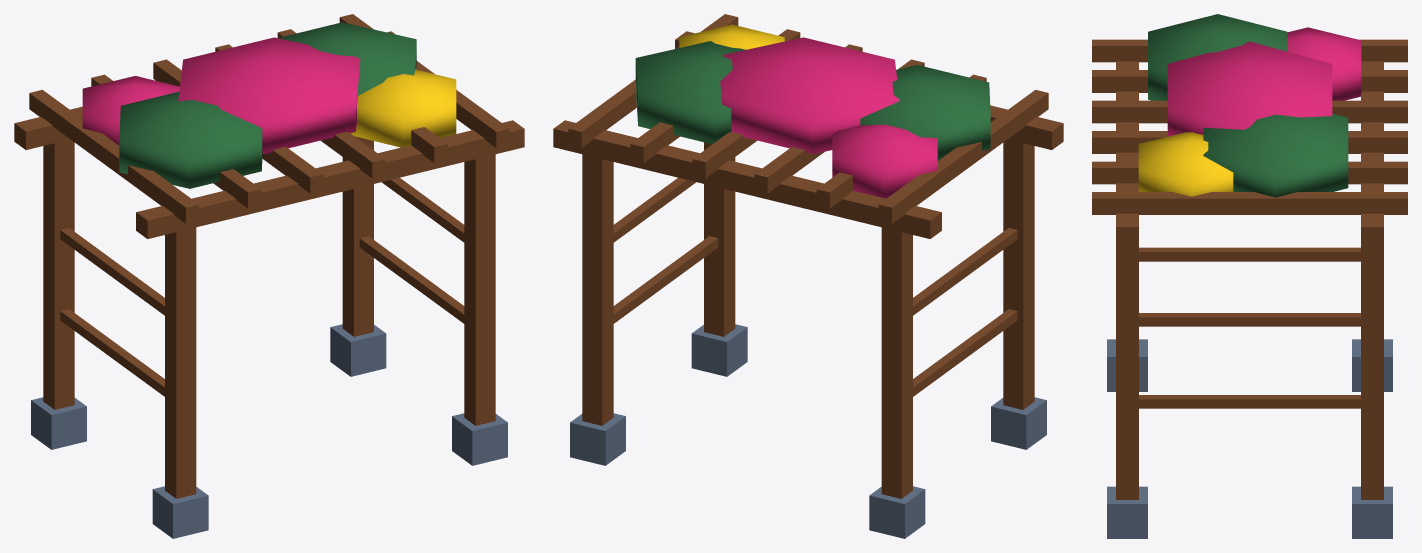
Rendered from prop_07_dalat_flower_pergola_arch.glb.
The picture shows the model from 3 angles, left to right: view 1: azimuth 30°, elevation 25°; view 2: azimuth 150°, elevation 25°; view 3: azimuth 270°, elevation 25°; orthographic projection.
Visible parts, largest first — view 1: vine_cluster_2, vine_cluster_0, post_-1.35_0.95, post_1.35_0.95, main_beam_0.95, post_-1.35_-0.95, vine_cluster_4, post_1.35_-0.95, vine_cluster_1, rafter_0, vine_cluster_3, foot_-1.35_0.95 (+13 smaller); view 2: vine_cluster_2, post_-1.35_-0.95, post_1.35_-0.95, main_beam_-0.95, post_-1.35_0.95, vine_cluster_1, vine_cluster_0, vine_cluster_3, post_1.35_0.95, rafter_0, foot_-1.35_-0.95, foot_1.35_0.95 (+13 smaller); view 3: vine_cluster_2, vine_cluster_1, rafter_5, post_1.35_-0.95, post_1.35_0.95, vine_cluster_0, vine_cluster_4, rafter_2, trellis_l_1.1, vine_cluster_3, trellis_r_1.1, trellis_r_1.8 (+10 smaller).
Part boxes in pixels (bbox=[...]): vine_cluster_2: bbox=[178, 37, 360, 153]; vine_cluster_0: bbox=[119, 91, 262, 188]; post_-1.35_0.95: bbox=[165, 227, 196, 498]; post_1.35_0.95: bbox=[464, 154, 495, 425]; main_beam_0.95: bbox=[136, 120, 524, 238]; post_-1.35_-0.95: bbox=[43, 139, 74, 409]; vine_cluster_4: bbox=[351, 69, 456, 147]; post_1.35_-0.95: bbox=[342, 136, 373, 336]; vine_cluster_1: bbox=[278, 22, 416, 95]; rafter_0: bbox=[29, 89, 199, 223]; vine_cluster_3: bbox=[82, 76, 179, 145]; foot_-1.35_0.95: bbox=[152, 486, 208, 538]; vine_cluster_2: bbox=[720, 37, 899, 153]; post_-1.35_-0.95: bbox=[881, 227, 912, 498]; post_1.35_-0.95: bbox=[582, 154, 613, 425]; main_beam_-0.95: bbox=[553, 120, 941, 238]; post_-1.35_0.95: bbox=[1003, 139, 1034, 409]; vine_cluster_1: bbox=[635, 41, 745, 144]; vine_cluster_0: bbox=[860, 65, 990, 160]; vine_cluster_3: bbox=[832, 124, 937, 198]; post_1.35_0.95: bbox=[704, 142, 735, 336]; rafter_0: bbox=[878, 89, 1048, 223]; foot_-1.35_-0.95: bbox=[869, 486, 925, 538]; foot_1.35_0.95: bbox=[691, 324, 747, 376]; vine_cluster_2: bbox=[1167, 41, 1332, 136]; vine_cluster_1: bbox=[1203, 113, 1348, 197]; rafter_5: bbox=[1092, 192, 1407, 214]; post_1.35_-0.95: bbox=[1361, 245, 1383, 499]; post_1.35_0.95: bbox=[1116, 245, 1138, 499]; vine_cluster_0: bbox=[1148, 14, 1287, 100]; vine_cluster_4: bbox=[1138, 132, 1233, 196]; rafter_2: bbox=[1092, 100, 1407, 123]; trellis_l_1.1: bbox=[1139, 247, 1360, 261]; vine_cluster_3: bbox=[1287, 27, 1361, 100]; trellis_r_1.1: bbox=[1139, 395, 1360, 408]; trellis_r_1.8: bbox=[1139, 313, 1360, 326].
Bounding box in the file's own units: 3.4 × 3.32 × 2.45.
